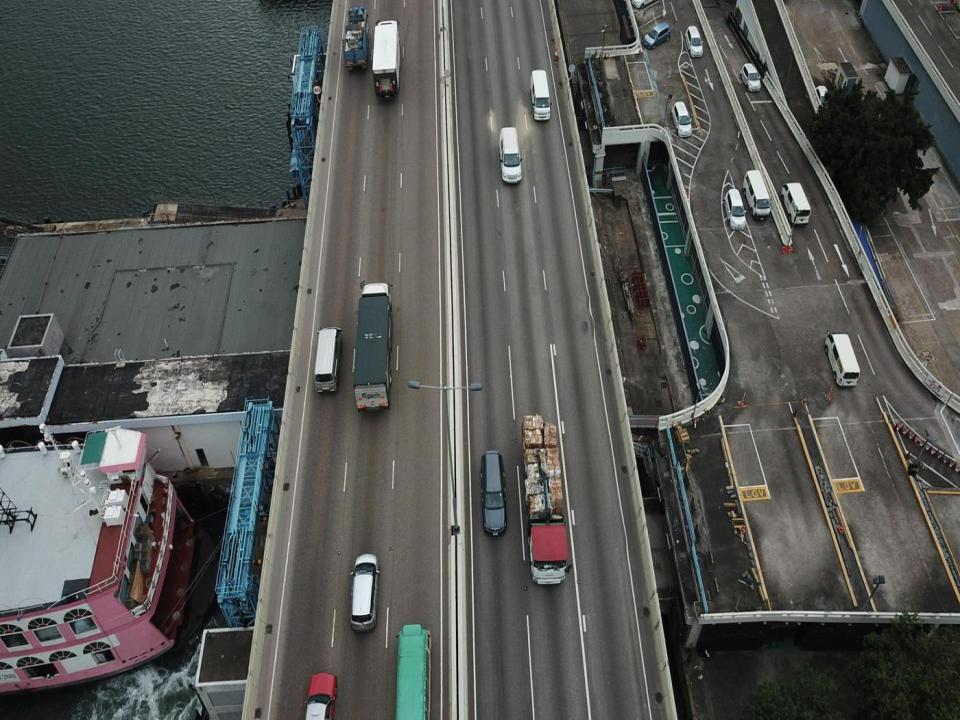bus: (392, 615, 434, 719)
car: (346, 552, 382, 632), (478, 451, 510, 538), (298, 673, 342, 719), (640, 20, 672, 51), (671, 99, 693, 139), (739, 60, 762, 92)
truck: (521, 413, 571, 586), (351, 278, 395, 416), (369, 19, 403, 103), (342, 6, 368, 74)
van: (823, 328, 862, 388), (312, 325, 344, 394), (779, 179, 813, 229), (744, 169, 774, 220), (498, 126, 522, 186), (530, 68, 553, 124), (724, 188, 748, 231), (683, 23, 705, 58)
